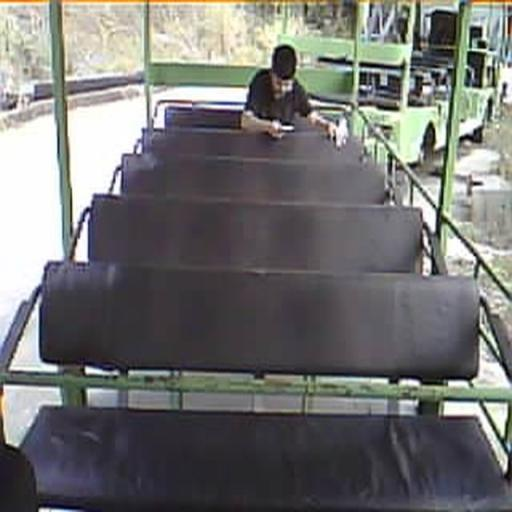persona: (240, 44, 338, 142)
